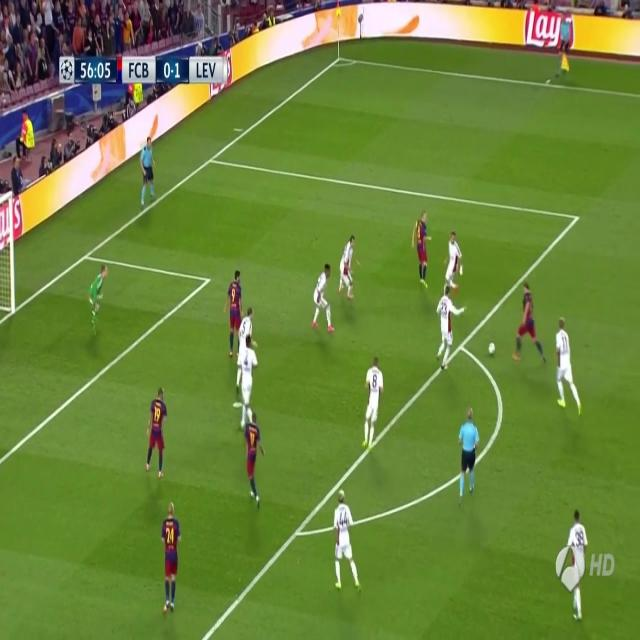Ball: (488, 340, 498, 359)
Goalkeeper: (87, 262, 111, 342)
Player: (552, 313, 586, 419), (332, 488, 364, 598), (511, 279, 549, 369), (433, 286, 467, 374), (160, 499, 183, 616), (567, 508, 589, 625), (362, 354, 386, 452), (144, 386, 168, 482), (243, 415, 267, 511), (235, 306, 258, 394), (239, 333, 259, 431), (411, 204, 433, 287), (311, 260, 334, 336), (224, 270, 244, 356), (338, 229, 358, 303), (444, 228, 464, 295)
Referee: (456, 404, 481, 502), (136, 135, 158, 213), (558, 11, 572, 62)
